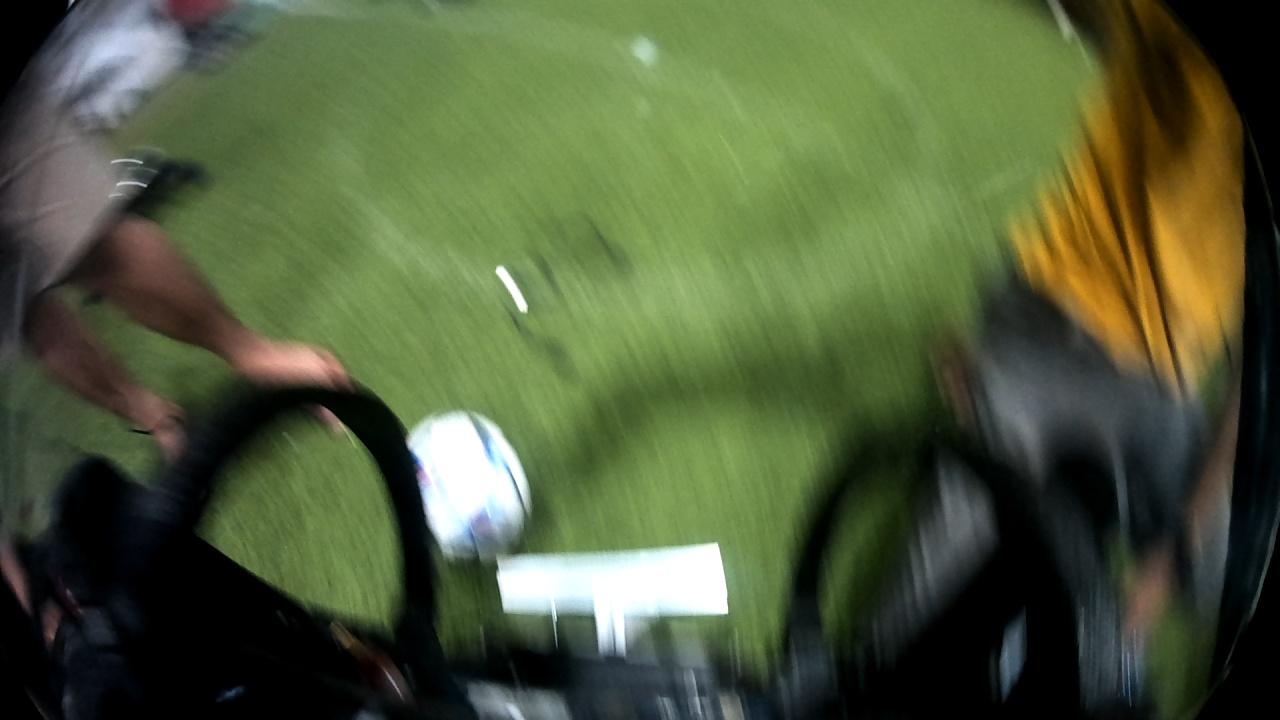ball: (399, 406, 539, 575)
